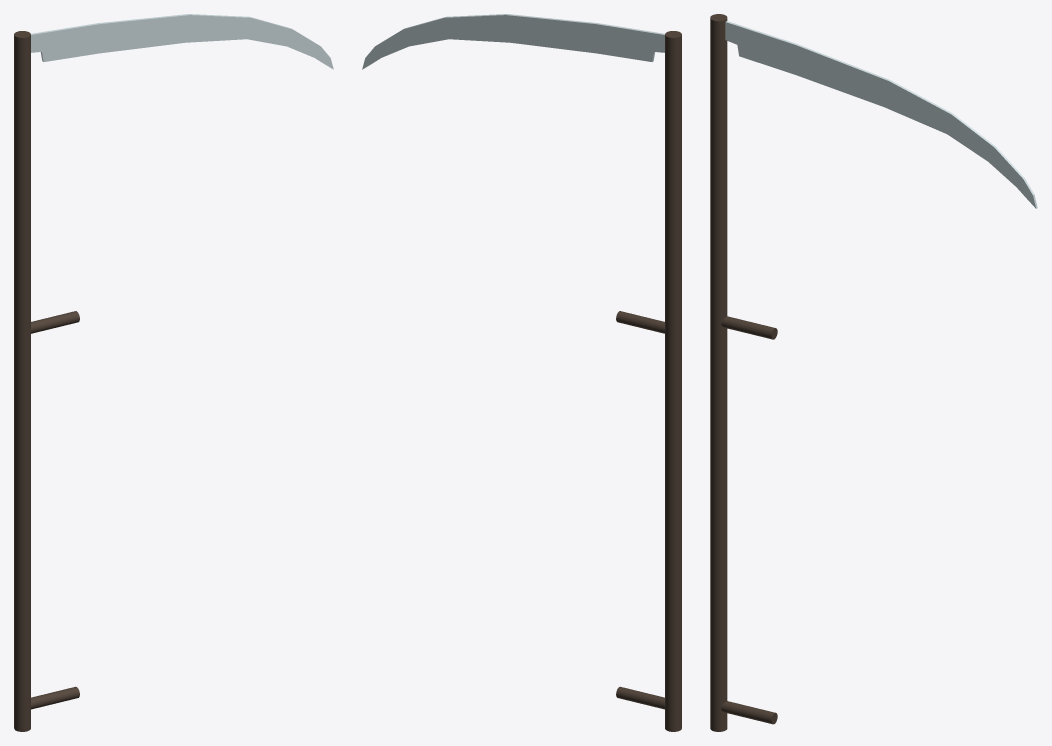
Rendered from SM_Prop_Scythe.fbx.
The picture shows the model from 3 angles, left to right: view 1: azimuth 30°, elevation 25°; view 2: azimuth 150°, elevation 25°; view 3: azimuth 330°, elevation 25°; orthographic projection. The views are drawn at different scales.
Visible parts, largest first — view 1: SM_Prop_Scythe; view 2: SM_Prop_Scythe; view 3: SM_Prop_Scythe.
Part boxes in pixels (x1,y1,x2,y2): SM_Prop_Scythe: (14, 14, 333, 731); SM_Prop_Scythe: (362, 14, 681, 731); SM_Prop_Scythe: (710, 14, 1037, 731).
Size of the model in its own units: 91.1 by 190 by 4.2.
